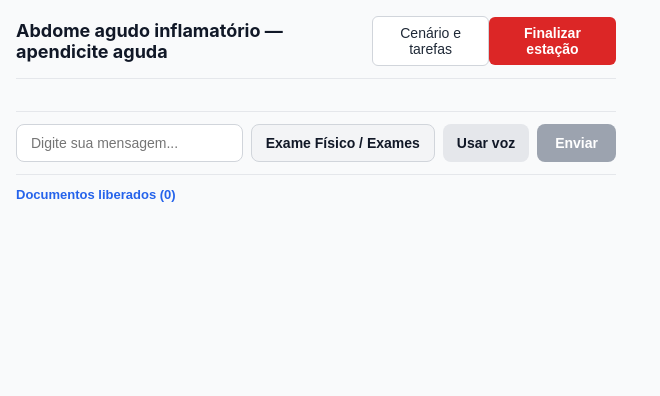
Test case: App › wires successful voice transcription to a voice learner message
This screenshot has width=660, height=396.
Click the button with test id "voice-button".
click(486, 143)  # box 443,124 -> 529,162
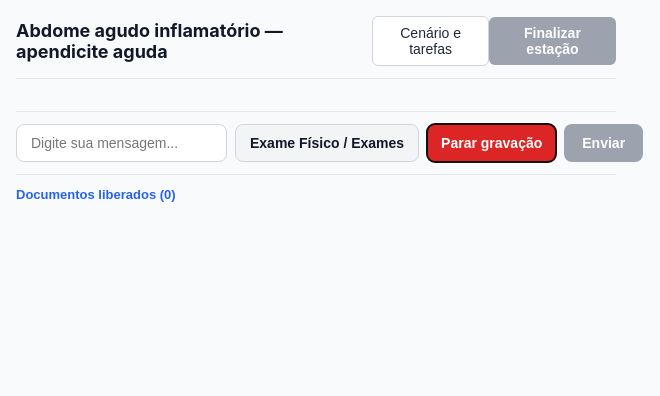
Now the button "Parar gravação" is shown
Click the button with test id "voice-button".
click(492, 143)  # box 427,124 -> 556,162
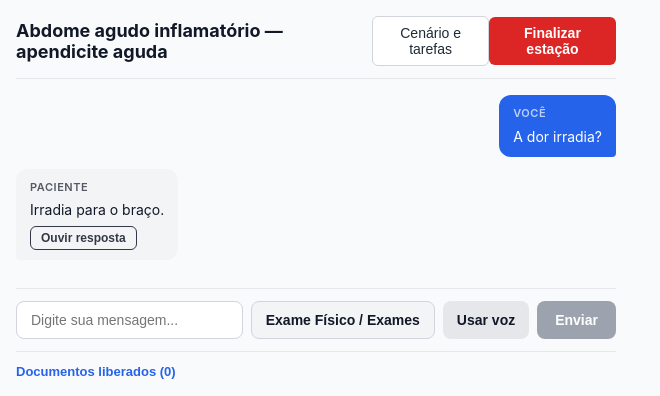
Now the text "Irradia para o braço." is shown, box 30,201 -> 164,218
